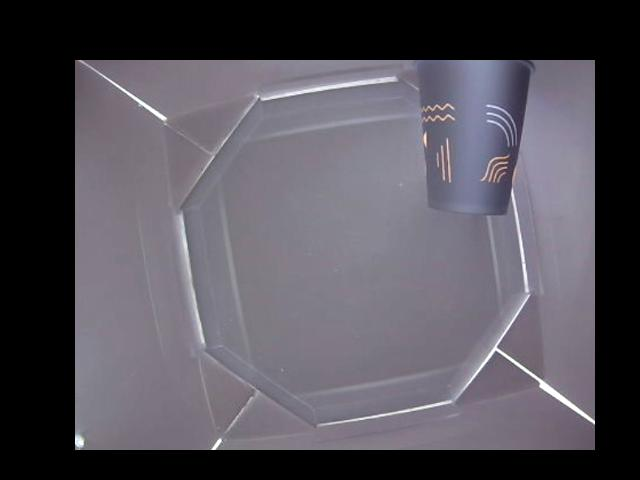Cup: (413, 60, 536, 217)
